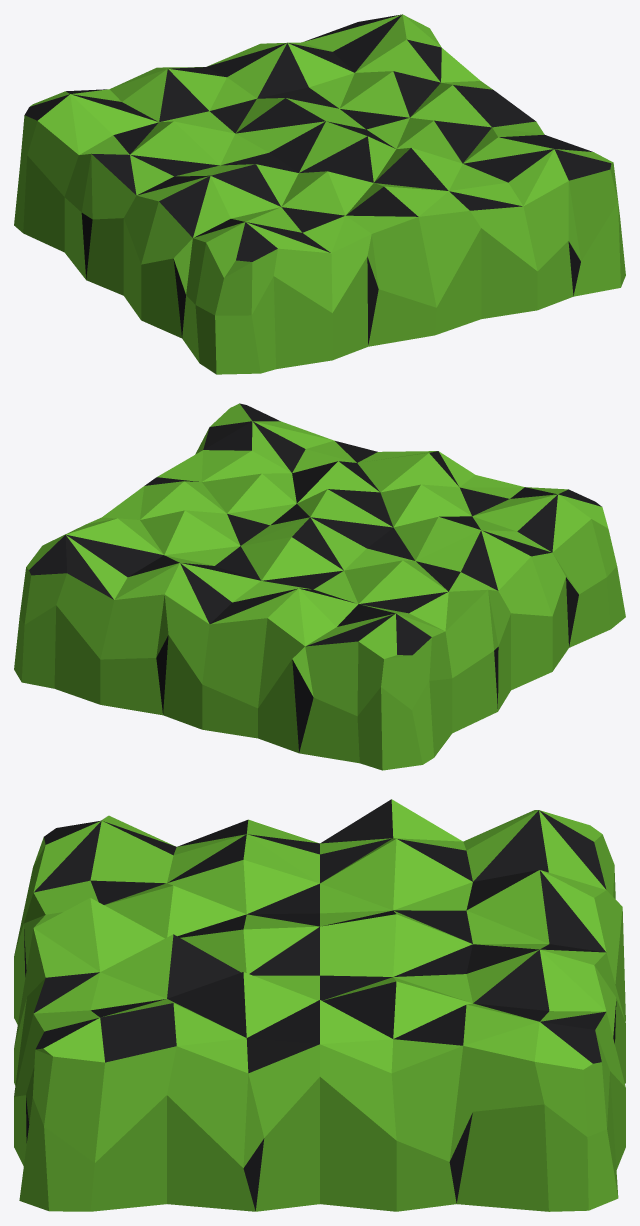
Rendered from grass_field.fbx.
The picture shows the model from 3 angles, top to bottom: view 1: azimuth 30°, elevation 25°; view 2: azimuth 150°, elevation 25°; view 3: azimuth 270°, elevation 25°; orthographic projection. The views are drawn at different scales.
Parts seen in each view (by area): view 1: grass; view 2: grass; view 3: grass.
Part boxes in pixels (x1,y1,x2,y2): grass: (14, 14, 625, 374); grass: (14, 403, 625, 770); grass: (14, 799, 625, 1211).
Size of the model in its own units: 100 by 31.09 by 100.
